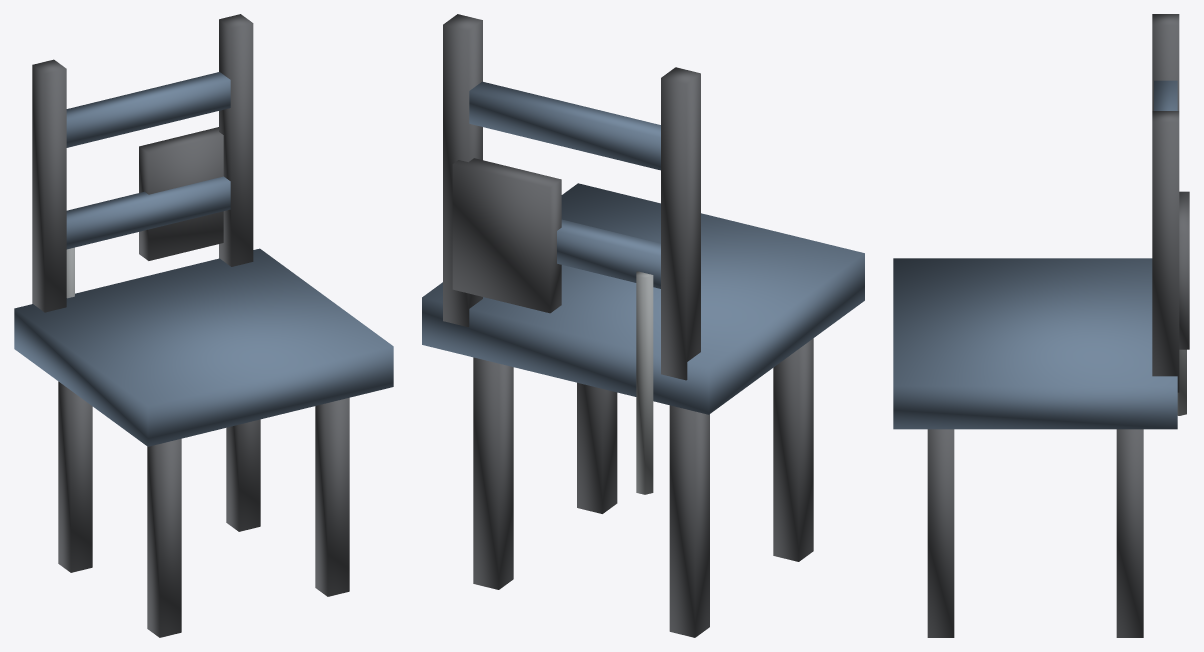
The model's file is jury_chair__service.glb.
The picture shows the model from 3 angles, left to right: view 1: azimuth 30°, elevation 25°; view 2: azimuth 150°, elevation 25°; view 3: azimuth 270°, elevation 25°; orthographic projection. The views are drawn at different scales.
Visible parts, largest first — view 1: world; view 2: world; view 3: world.
Part boxes in pixels (<box>): world: <box>14,14,393,637</box>; world: <box>422,14,864,637</box>; world: <box>893,14,1189,637</box>.
Size of the model in its own units: 0.5065 by 0.9631 by 0.4971.
